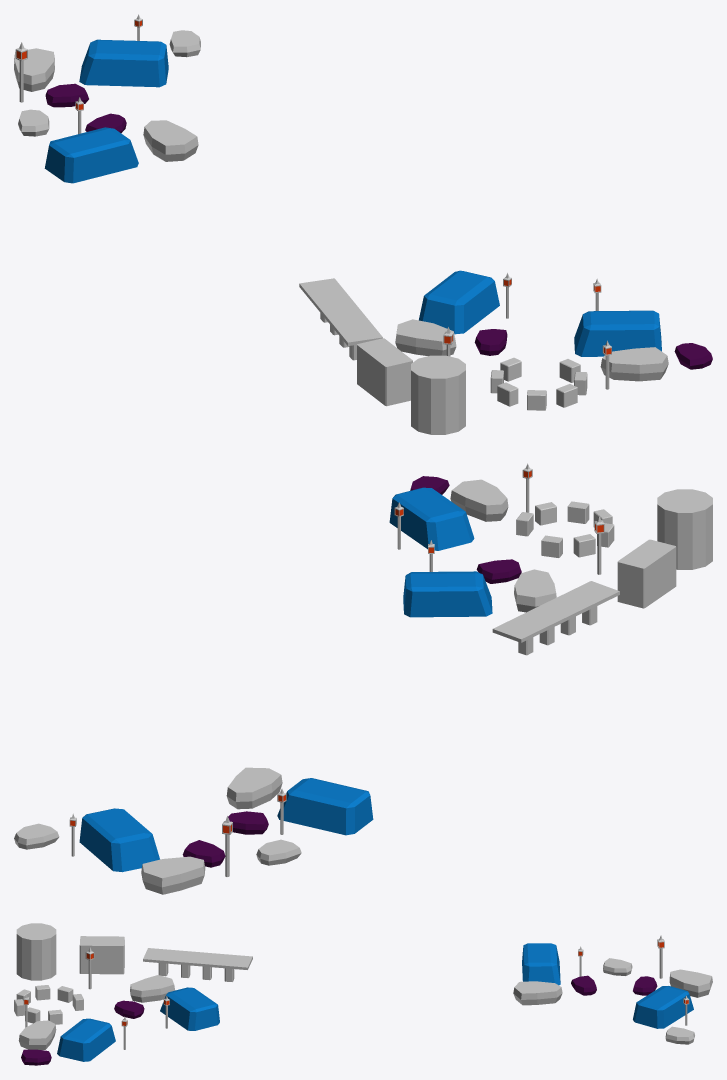
Rendered from debris.obj.
3 renders of one model, top to bottom at view 1: azimuth 30°, elevation 25°; view 2: azimuth 150°, elevation 25°; view 3: azimuth 270°, elevation 25°, orthographic. The views are drawn at different scales.
Visible parts, largest first — view 1: cylinder_Cylinder.004, model_gemstone_blue.002_Cube.064, model_gemstone_blue.003_Cube.064, model_gemstone_blue.001_Cube.064, model_gemstone_blue_Cube.064, big_block_Cube.070, debris_catwalk_Cube.069, stone_rock.005_Cube.067, stone_rock.001_Cube.067, stone_rock_Cube.067, stone_rock.003_Cube.067, model_gemostone_purple.003_Cube.066 (+4 smaller); view 2: model_gemstone_blue.003_Cube.064, model_gemstone_blue.001_Cube.064, cylinder_Cylinder.004, model_gemstone_blue.002_Cube.064, model_gemstone_blue_Cube.064, big_block_Cube.070, debris_catwalk_Cube.069, stone_rock.003_Cube.067, stone_rock.001_Cube.067, stone_rock.005_Cube.067, stone_rock_Cube.067, stone_rock.002_Cube.072 (+4 smaller); view 3: cylinder_Cylinder.004, model_gemstone_blue_Cube.064, model_gemstone_blue.001_Cube.064, model_gemstone_blue.002_Cube.064, big_block_Cube.070, debris_catwalk_Cube.069, model_gemstone_blue.003_Cube.064, stone_rock.001_Cube.067, stone_rock_Cube.067, stone_rock.003_Cube.067, stone_rock.005_Cube.067, model_gemostone_purple_Cube.066 (+5 smaller).
Boxes of the visible parts, <box> form: cylinder_Cylinder.004: <box>411,355,465,434</box>; model_gemstone_blue.002_Cube.064: <box>79,39,168,87</box>; model_gemstone_blue.003_Cube.064: <box>44,127,138,183</box>; model_gemstone_blue.001_Cube.064: <box>419,270,499,334</box>; model_gemstone_blue_Cube.064: <box>574,310,661,356</box>; big_block_Cube.070: <box>357,338,412,406</box>; debris_catwalk_Cube.069: <box>299,278,382,345</box>; stone_rock.005_Cube.067: <box>600,347,668,381</box>; stone_rock.001_Cube.067: <box>143,120,198,161</box>; stone_rock_Cube.067: <box>395,319,456,355</box>; stone_rock.003_Cube.067: <box>14,48,54,91</box>; model_gemostone_purple.003_Cube.066: <box>45,83,88,107</box>; model_gemstone_blue.003_Cube.064: <box>277,778,373,835</box>; model_gemstone_blue.001_Cube.064: <box>403,571,492,617</box>; cylinder_Cylinder.004: <box>657,489,712,569</box>; model_gemstone_blue.002_Cube.064: <box>79,808,159,872</box>; model_gemstone_blue_Cube.064: <box>389,487,474,550</box>; big_block_Cube.070: <box>617,539,676,608</box>; debris_catwalk_Cube.069: <box>492,581,619,642</box>; stone_rock.003_Cube.067: <box>141,856,205,894</box>; stone_rock.001_Cube.067: <box>226,767,282,809</box>; stone_rock.005_Cube.067: <box>450,479,508,521</box>; stone_rock_Cube.067: <box>514,569,556,612</box>; stone_rock.002_Cube.072: <box>14,823,59,849</box>; cylinder_Cylinder.004: <box>16,923,56,980</box>; model_gemstone_blue_Cube.064: <box>57,1018,115,1061</box>; model_gemstone_blue.001_Cube.064: <box>160,987,219,1030</box>; model_gemstone_blue.002_Cube.064: <box>633,986,693,1028</box>; big_block_Cube.070: <box>79,936,124,974</box>; debris_catwalk_Cube.069: <box>143,948,252,969</box>; model_gemstone_blue.003_Cube.064: <box>522,943,560,985</box>; stone_rock.001_Cube.067: <box>513,981,562,1005</box>; stone_rock_Cube.067: <box>130,975,175,1002</box>; stone_rock.003_Cube.067: <box>669,969,712,997</box>; stone_rock.005_Cube.067: <box>18,1020,56,1050</box>; model_gemostone_purple_Cube.066: <box>21,1049,51,1065</box>.
Bounding box in the file's own units: 299 × 56.64 × 830.
